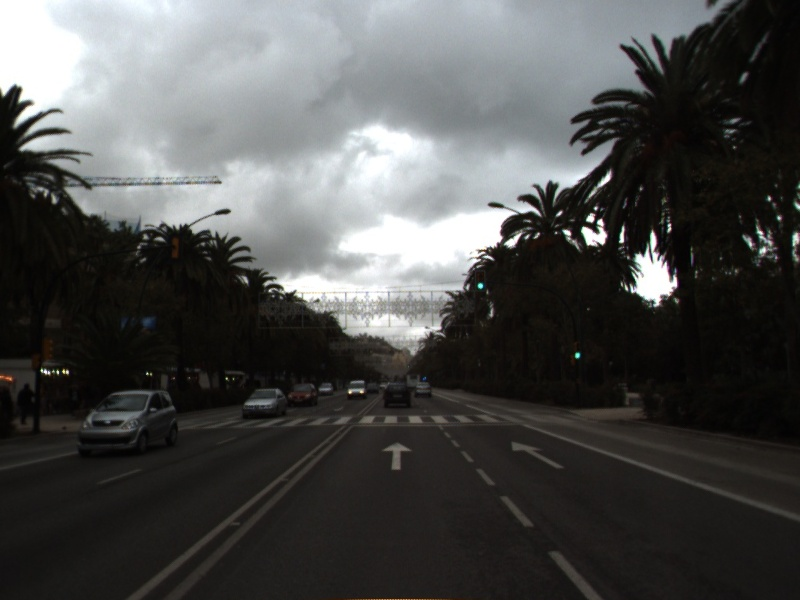STRAIGHT: (509, 439, 566, 471), (380, 439, 415, 472)
